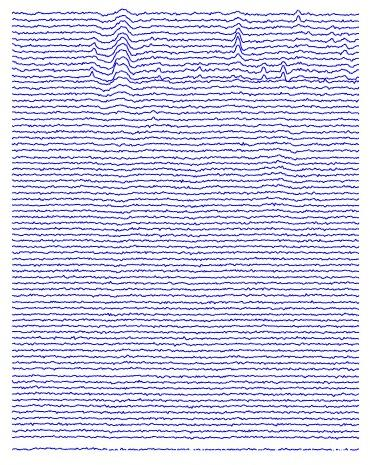defect: (110, 9, 134, 86), (83, 34, 101, 79), (336, 28, 351, 60), (256, 55, 267, 91), (231, 26, 244, 54), (276, 59, 289, 81), (328, 17, 336, 49), (293, 8, 307, 26)
